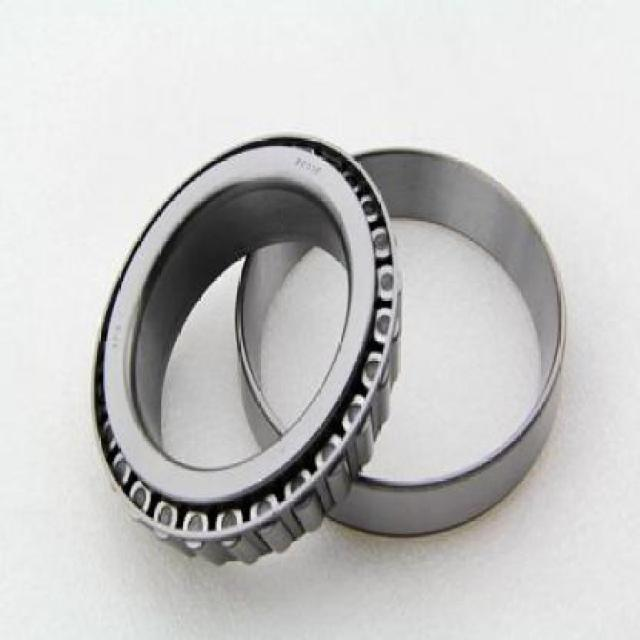Bearing: (87, 129, 405, 574)
